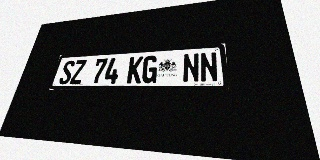4: (103, 58, 121, 84)
7: (90, 58, 108, 84)
G: (141, 55, 158, 83)
K: (126, 56, 144, 83)
N: (182, 53, 200, 83), (200, 52, 218, 82)
S: (58, 60, 76, 84)
Z: (69, 60, 87, 84)
